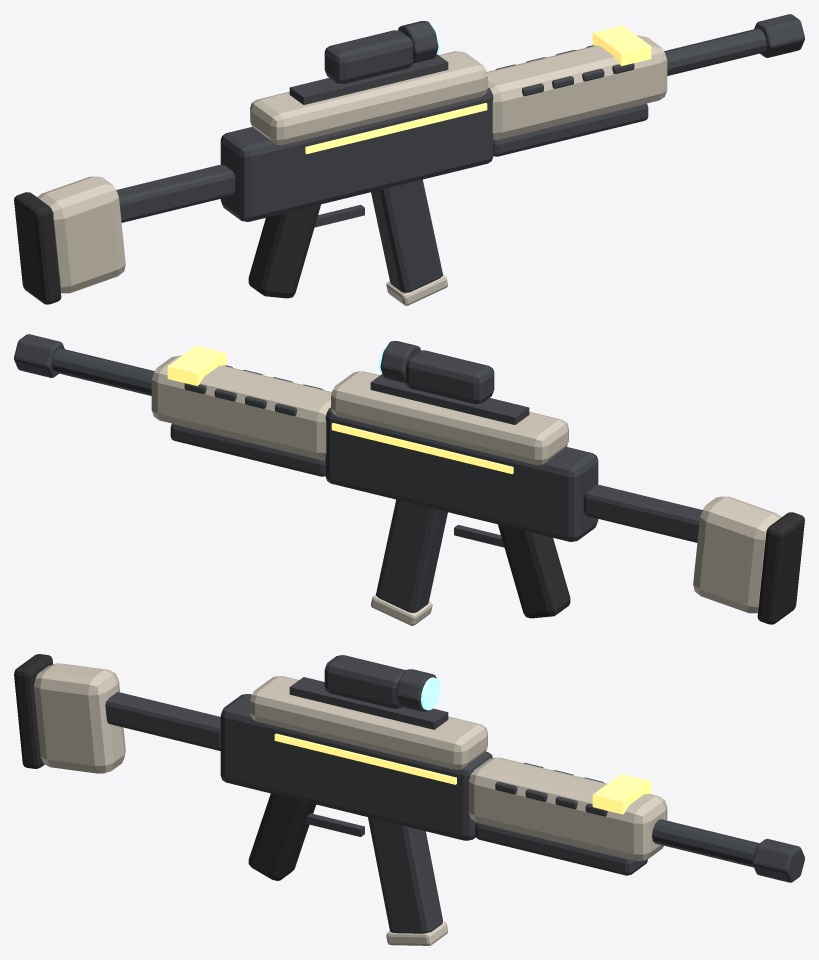
The model's file is field_issue_carbine.glb.
3 renders of one model, top to bottom at view 1: azimuth 30°, elevation 25°; view 2: azimuth 150°, elevation 25°; view 3: azimuth 330°, elevation 25°, orthographic.
Parts seen in each view (by area): view 1: receiver, shroud, upper_shell, stock_pad, mag, grip, stock_arm, stock_butt, optic_body, shroud_under, barrel, rail (+6 smaller); view 2: receiver, shroud, upper_shell, stock_pad, mag, grip, stock_arm, stock_butt, optic_body, shroud_under, barrel, rail (+6 smaller); view 3: receiver, shroud, upper_shell, stock_pad, mag, stock_arm, grip, optic_body, shroud_under, barrel, stock_butt, rail (+6 smaller).
Boxes of the visible parts, x1,y1,x2,y2 form: receiver: (220, 87, 493, 221); shroud: (487, 35, 667, 139); upper_shell: (250, 51, 487, 145); stock_pad: (37, 176, 125, 293); mag: (371, 179, 442, 292); grip: (248, 204, 320, 298); stock_arm: (116, 165, 235, 222); stock_butt: (14, 192, 61, 304); optic_body: (324, 30, 413, 83); shroud_under: (493, 103, 648, 156); barrel: (664, 28, 766, 75); rail: (289, 54, 448, 104); receiver: (325, 407, 598, 541); shroud: (151, 355, 331, 459); upper_shell: (331, 371, 568, 465); stock_pad: (693, 496, 781, 613); mag: (376, 499, 447, 612); grip: (498, 524, 570, 618); stock_arm: (583, 485, 702, 542); stock_butt: (757, 512, 804, 624); optic_body: (405, 350, 494, 403); shroud_under: (170, 423, 325, 476); barrel: (52, 348, 154, 395); rail: (370, 374, 529, 424); receiver: (220, 694, 492, 840); shroud: (468, 757, 667, 860); upper_shell: (250, 676, 487, 769); stock_pad: (34, 663, 125, 773); mag: (368, 817, 442, 933); stock_arm: (105, 692, 220, 750); grip: (248, 793, 315, 880); optic_body: (324, 655, 405, 708); shroud_under: (475, 822, 647, 875); barrel: (652, 819, 759, 867); stock_butt: (14, 654, 52, 768); rail: (289, 677, 448, 729).
Size of the model in its own units: 1.28 by 0.4306 by 0.092.
